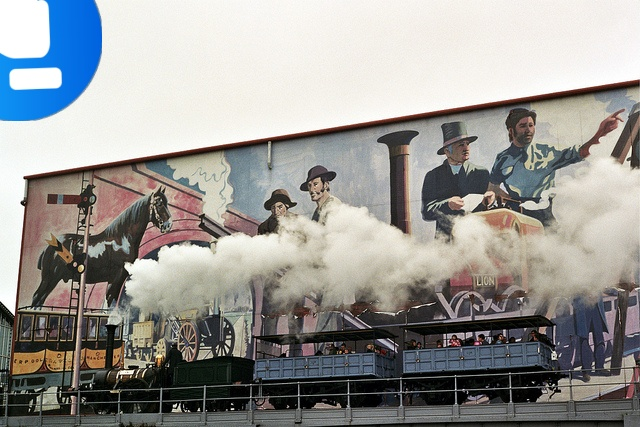like: (0, 0, 102, 121)
